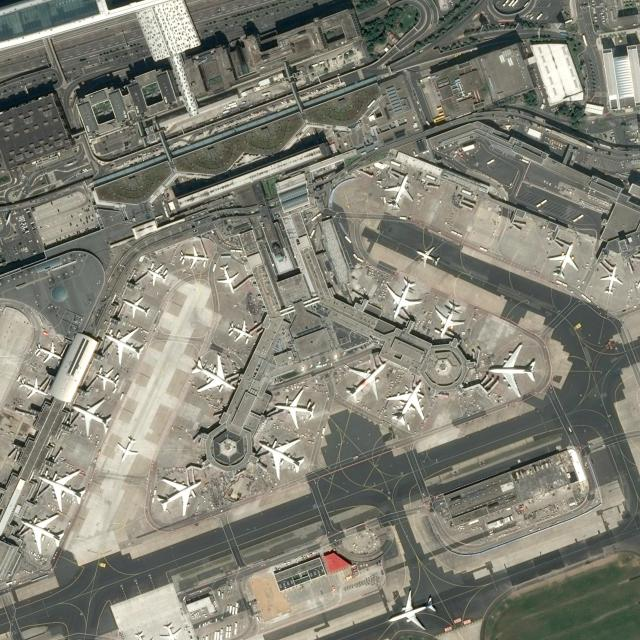1: (160, 622, 182, 640), (134, 630, 150, 640)
aircraft: (488, 344, 536, 396), (37, 469, 84, 512), (388, 590, 437, 630), (258, 438, 304, 480), (20, 512, 64, 554), (190, 353, 236, 393), (345, 358, 386, 402), (386, 379, 424, 426), (156, 477, 201, 516), (273, 388, 316, 428), (71, 398, 111, 436), (104, 326, 144, 364), (386, 278, 422, 318), (383, 172, 413, 210), (434, 300, 464, 336), (548, 242, 578, 278), (600, 264, 623, 294), (180, 244, 208, 268), (217, 264, 238, 294), (34, 341, 62, 363), (122, 296, 150, 318), (227, 319, 253, 342), (20, 377, 48, 398), (116, 436, 138, 462), (95, 368, 119, 391), (416, 245, 438, 267), (147, 263, 168, 285)
